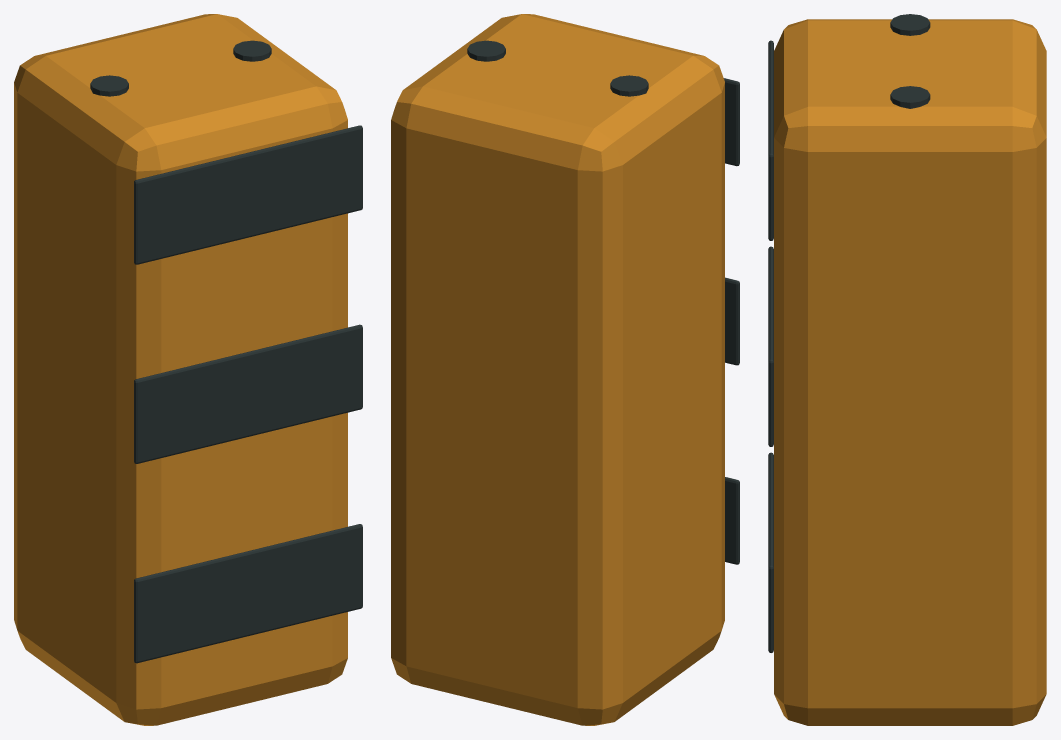
File: gate_post.glb
The picture shows the model from 3 angles, left to right: view 1: azimuth 30°, elevation 25°; view 2: azimuth 150°, elevation 25°; view 3: azimuth 270°, elevation 25°; orthographic projection. The views are drawn at different scales.
Visible parts, largest first — view 1: gate_post; view 2: gate_post; view 3: gate_post.
Part boxes in pixels (x1,y1,x2,y2): gate_post: [14, 14, 362, 725]; gate_post: [391, 14, 739, 725]; gate_post: [768, 14, 1046, 725].
Size of the model in its own units: 0.48 by 1.21 by 0.49.
